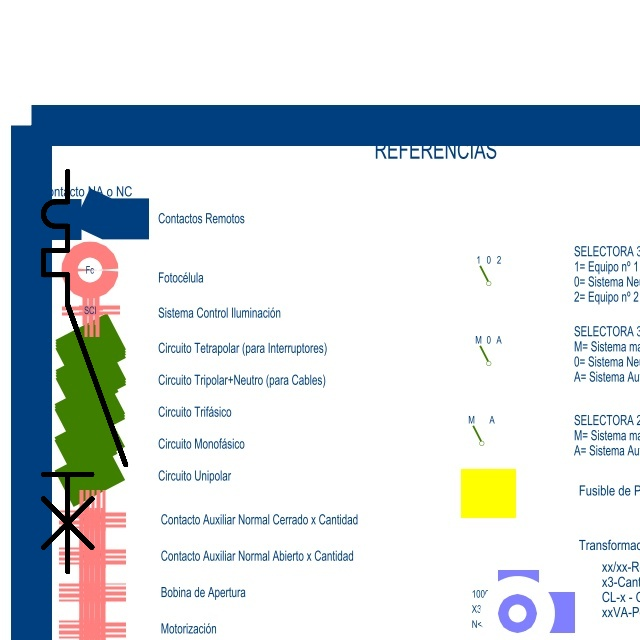interruptor_termomagnetico: (33, 161, 136, 582)
